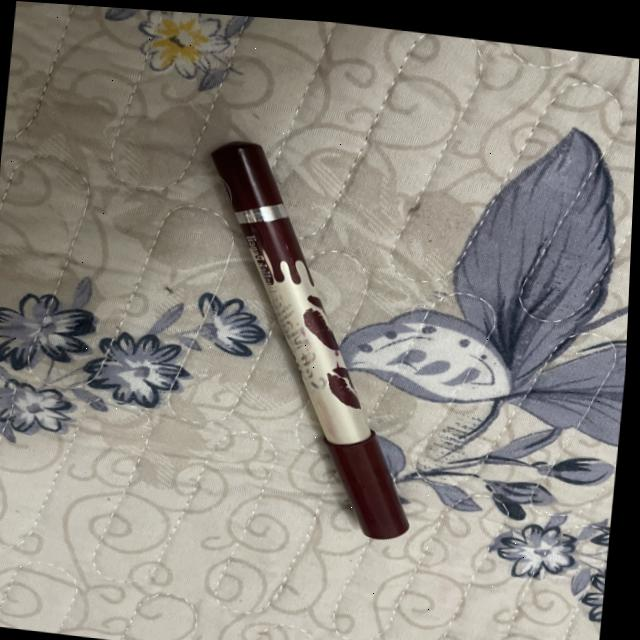lip liner: (184, 136, 451, 536)
